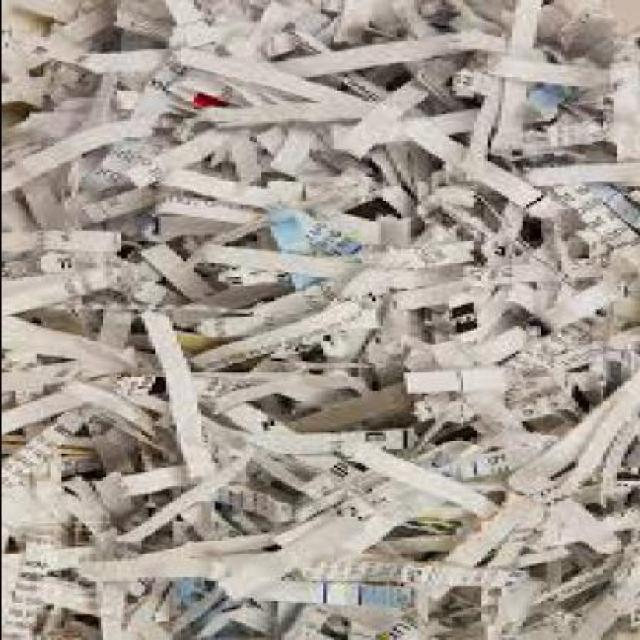PAPER: (3, 0, 639, 640)
